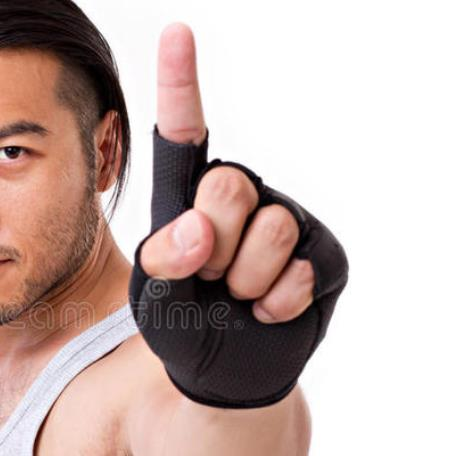up: (125, 17, 347, 410)
